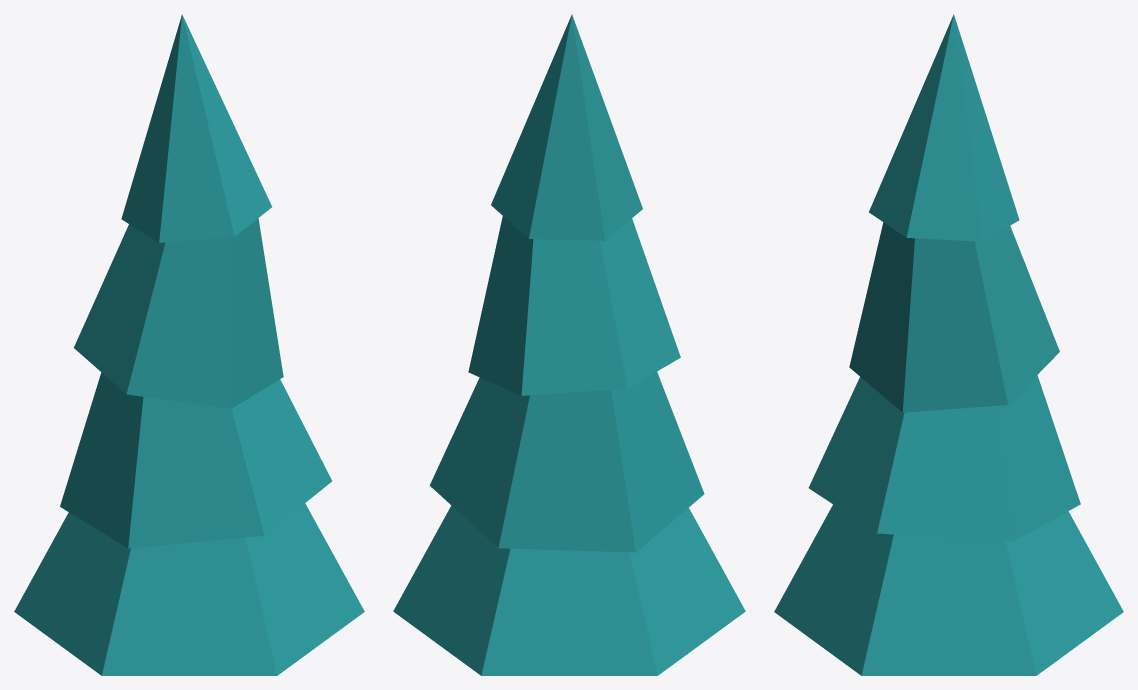
File: tree_pineGroundB.glb
3 renders of one model, left to right at view 1: azimuth 30°, elevation 25°; view 2: azimuth 150°, elevation 25°; view 3: azimuth 270°, elevation 25°, orthographic.
Parts seen in each view (by area): view 1: tree_pineGroundB; view 2: tree_pineGroundB; view 3: tree_pineGroundB.
Part boxes in pixels (<box>): tree_pineGroundB: <box>14,14,364,675</box>; tree_pineGroundB: <box>393,14,745,675</box>; tree_pineGroundB: <box>774,14,1123,675</box>.
Bounding box in the file's own units: 0.4804 × 1.04 × 0.5547.
